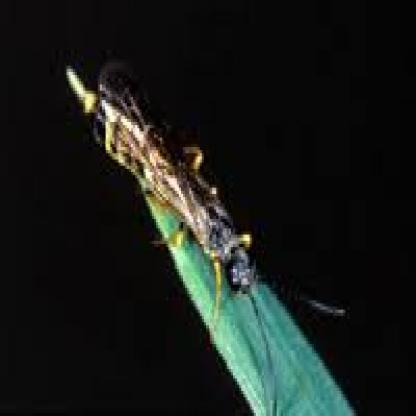sawfly: (66, 62, 347, 416)
